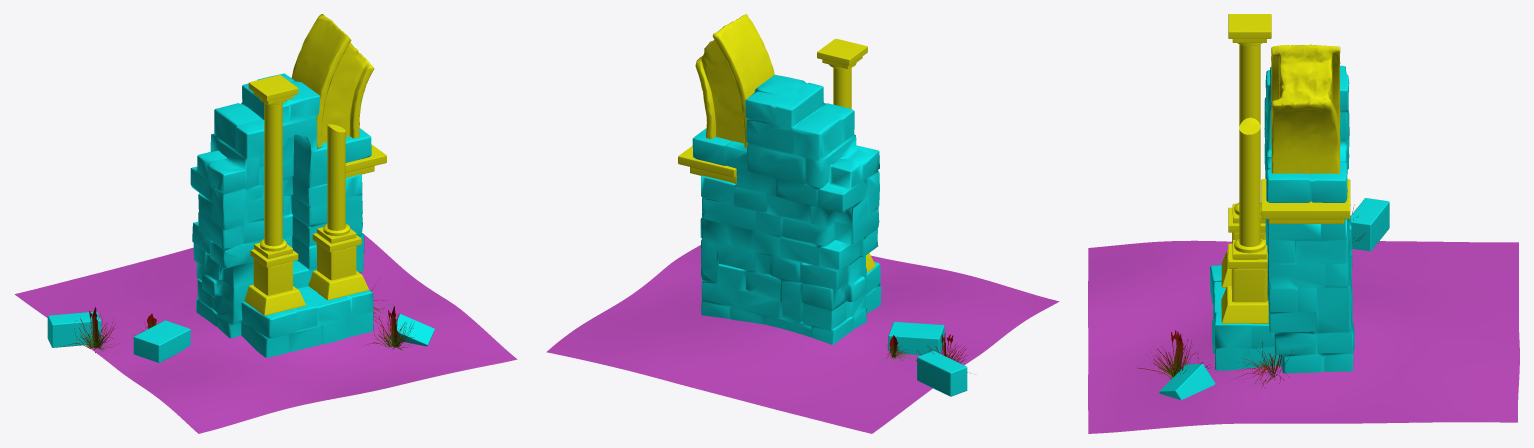
File: ruin_triumphal_arch_mod.fbx
3 renders of one model, left to right at view 1: azimuth 30°, elevation 25°; view 2: azimuth 150°, elevation 25°; view 3: azimuth 270°, elevation 25°, orthographic. The views are drawn at different scales.
Visible parts, largest first — view 1: ground2, briks_wall_low, arch_broken_low, column_low, semicolumn_low, briks_2_low, briks_3_low, trapisium_low, box_low1, box_low, trapisium_low1, plate_01_low (+4 smaller); view 2: ground2, briks_wall_low, arch_broken_low, briks_3_low, briks_2_low, plate_01_low, column_low, plate_up_low; view 3: ground2, briks_wall_low, arch_broken_low, semicolumn_low, plate_up_low, briks_3_low, column_low, box_low1, briks_1_low, trapisium_low1, plate_01_low, grass_4 (+2 smaller).
Boxes of the visible parts, x1,y1,x2,y2 form: ground2: [14, 235, 517, 433]; briks_wall_low: [190, 73, 373, 357]; arch_broken_low: [291, 14, 374, 147]; column_low: [264, 103, 282, 246]; semicolumn_low: [327, 124, 345, 230]; briks_2_low: [133, 320, 190, 362]; briks_3_low: [47, 311, 101, 347]; trapisium_low: [244, 284, 305, 315]; box_low1: [316, 243, 356, 280]; box_low: [253, 258, 292, 295]; trapisium_low1: [308, 270, 368, 300]; plate_01_low: [248, 75, 298, 101]; ground2: [546, 245, 1059, 433]; briks_wall_low: [692, 74, 881, 344]; arch_broken_low: [695, 14, 774, 147]; briks_3_low: [917, 351, 967, 396]; briks_2_low: [888, 322, 944, 355]; plate_01_low: [817, 38, 867, 65]; column_low: [833, 68, 851, 109]; plate_up_low: [678, 146, 736, 177]; ground2: [1088, 240, 1519, 433]; briks_wall_low: [1210, 65, 1354, 373]; arch_broken_low: [1271, 44, 1340, 173]; semicolumn_low: [1239, 117, 1260, 246]; plate_up_low: [1261, 179, 1350, 219]; briks_3_low: [1350, 198, 1389, 251]; column_low: [1239, 44, 1260, 126]; box_low1: [1231, 268, 1267, 302]; briks_1_low: [1159, 364, 1215, 399]; trapisium_low1: [1221, 286, 1268, 323]; plate_01_low: [1228, 14, 1271, 38]; grass_4: [1137, 330, 1210, 379].
Size of the model in its own units: 12.78 by 10.48 by 11.73.
